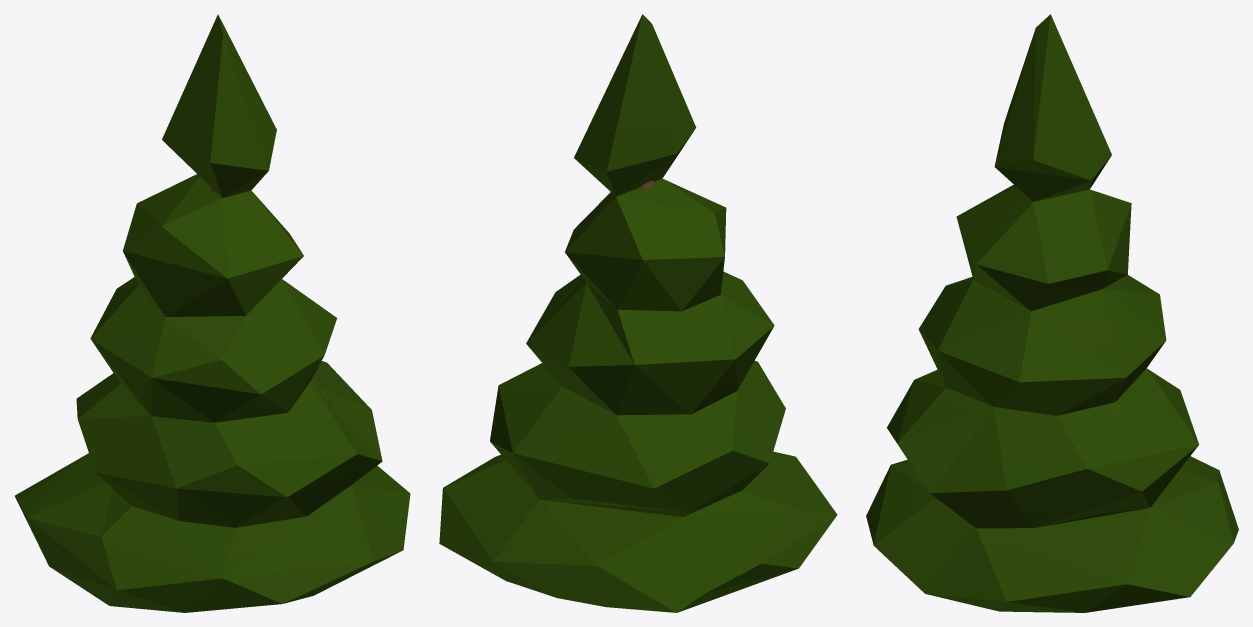
File: PineYoungB.glb
The picture shows the model from 3 angles, left to right: view 1: azimuth 30°, elevation 25°; view 2: azimuth 150°, elevation 25°; view 3: azimuth 270°, elevation 25°; orthographic projection.
Parts seen in each view (by area): view 1: PineYoungB_LOD0; view 2: PineYoungB_LOD0; view 3: PineYoungB_LOD0.
Boxes of the visible parts, x1,y1,x2,y2 form: PineYoungB_LOD0: [15, 14, 410, 612]; PineYoungB_LOD0: [439, 14, 837, 612]; PineYoungB_LOD0: [866, 14, 1238, 612].
Size of what is drawn, in the model's own units: 2.64 by 4.4 by 2.55.
